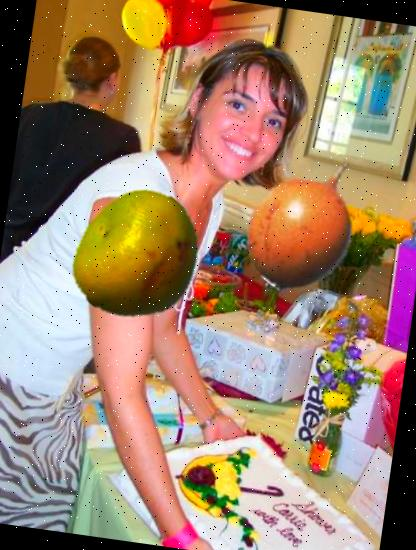Granadilla: (226, 142, 390, 305)
Pomelo: (63, 182, 215, 334)
